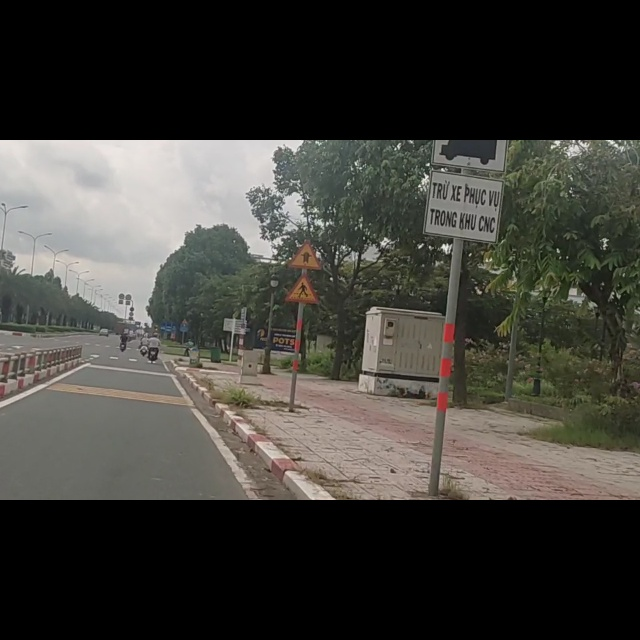bien_cam: (285, 237, 319, 292), (289, 177, 323, 231)
